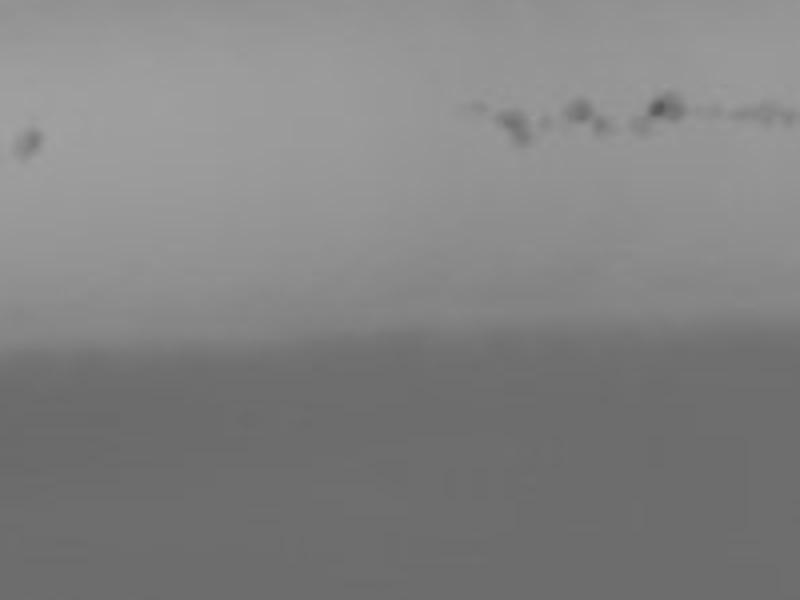defect: (497, 110, 534, 148), (647, 89, 684, 124), (757, 95, 794, 130), (15, 130, 47, 164), (565, 97, 595, 125), (630, 114, 650, 136), (534, 114, 556, 132), (593, 118, 615, 136), (728, 106, 749, 123), (471, 98, 490, 113)
